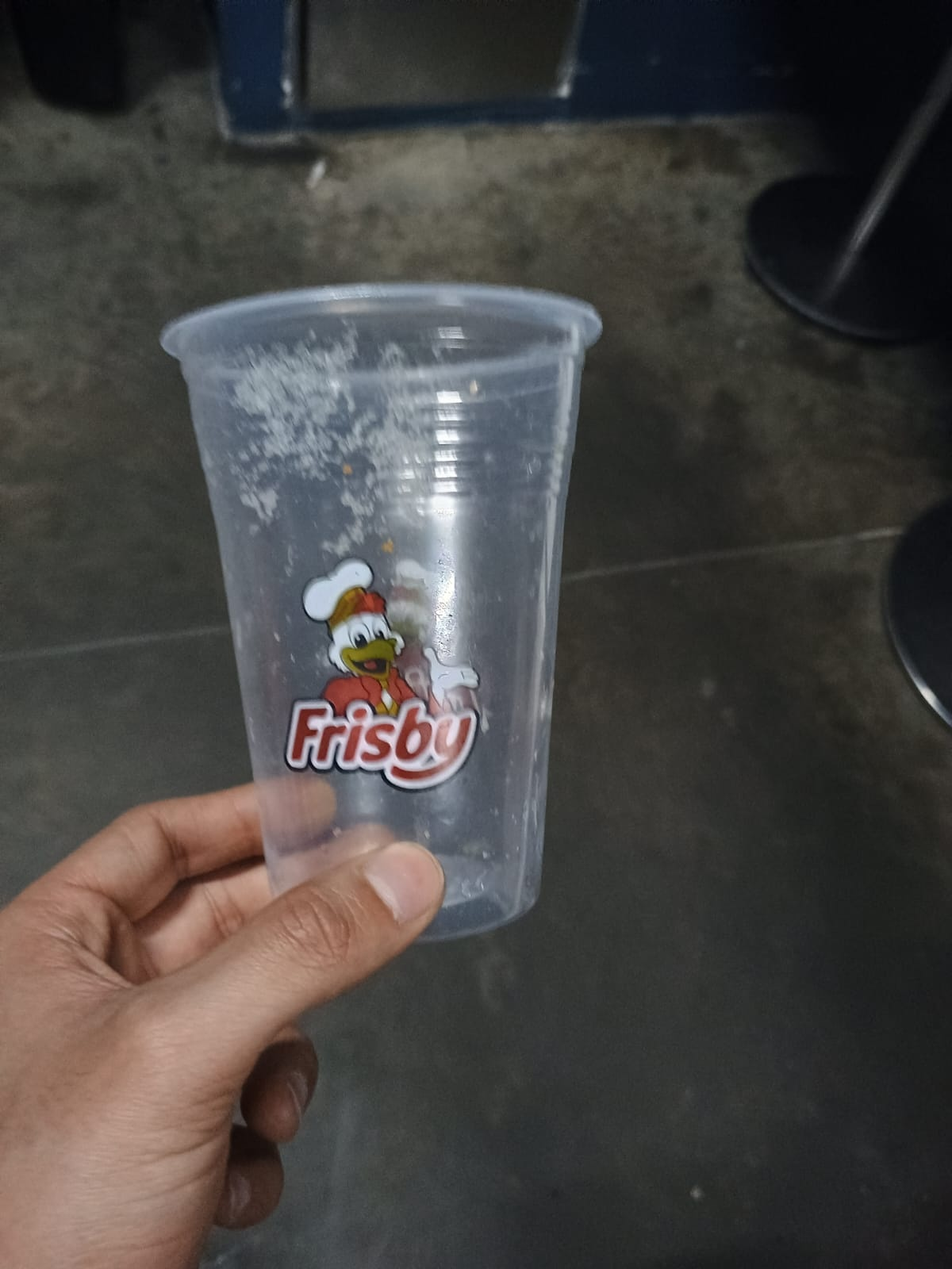Plastico: (163, 283, 604, 940)
